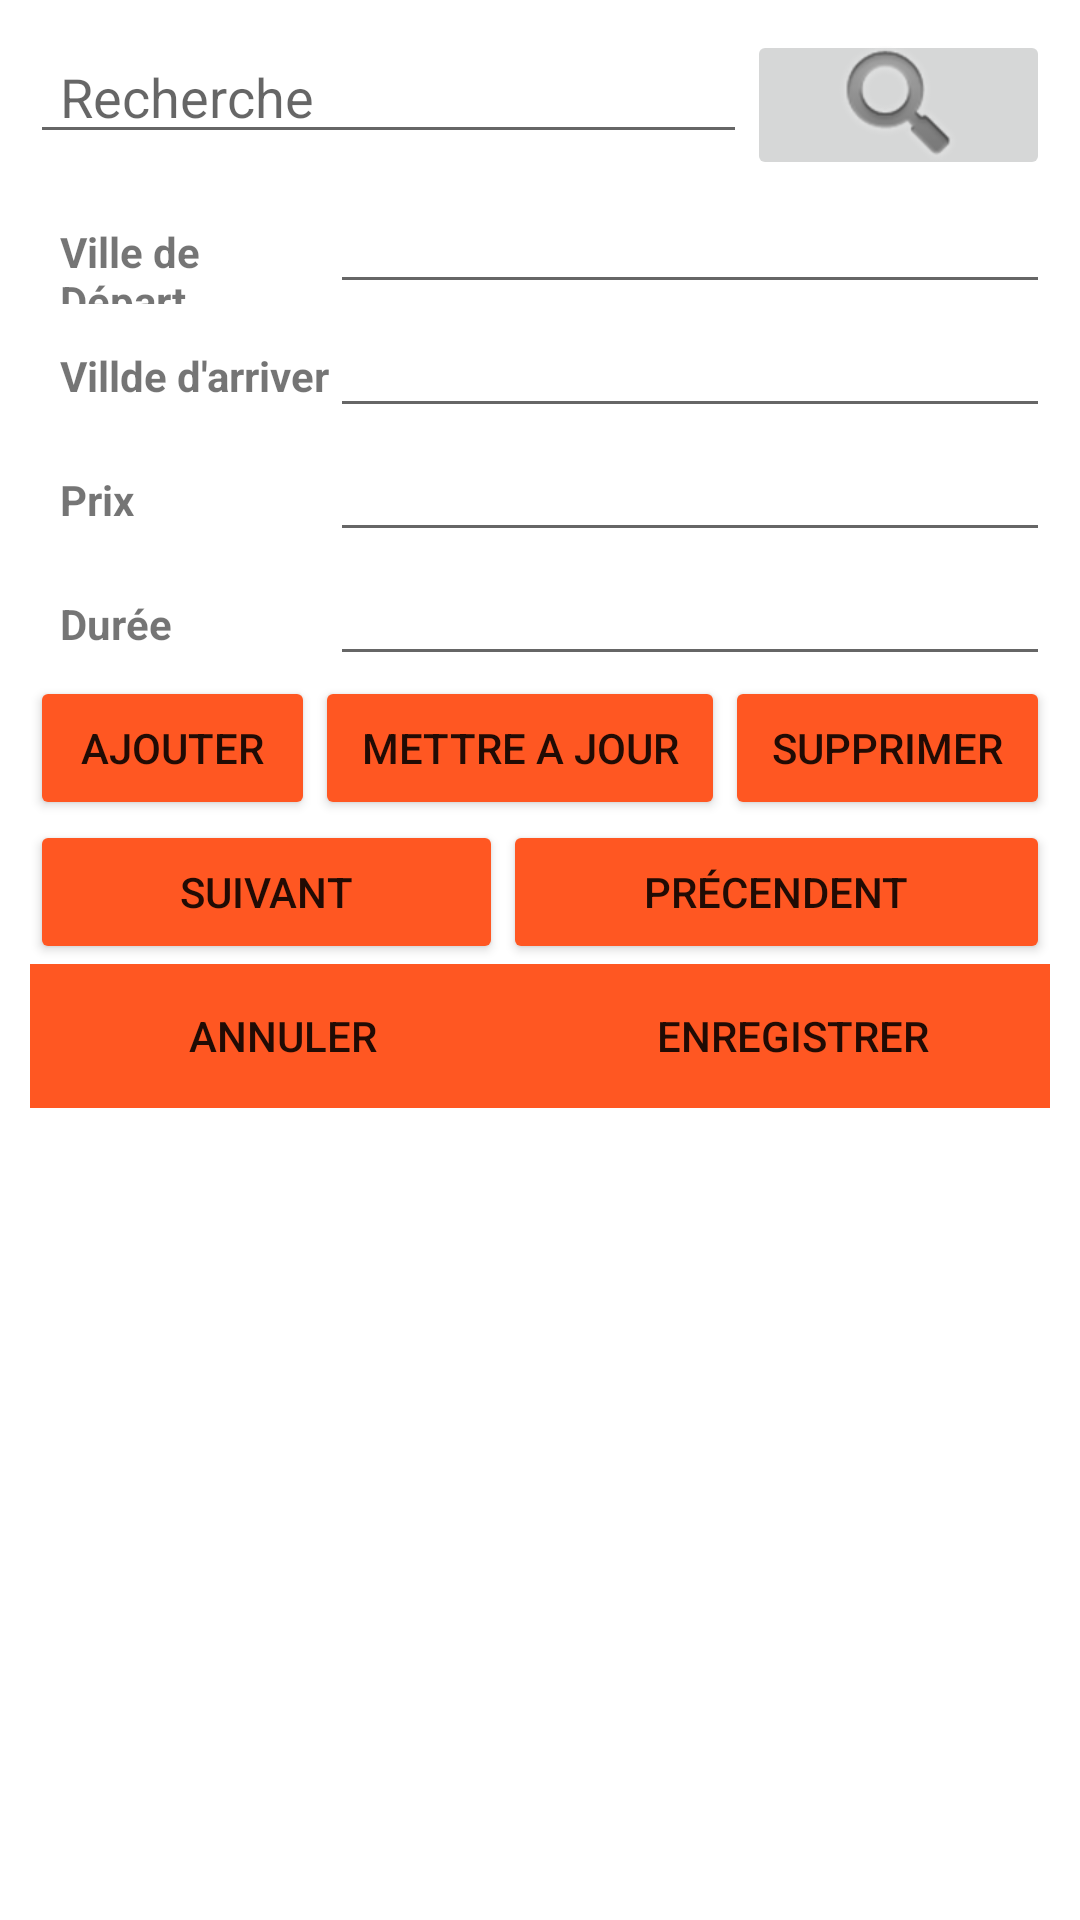

Named icons in this screenshot (1080*1920) and their centers, [x,y]:
search category: [898,105]
